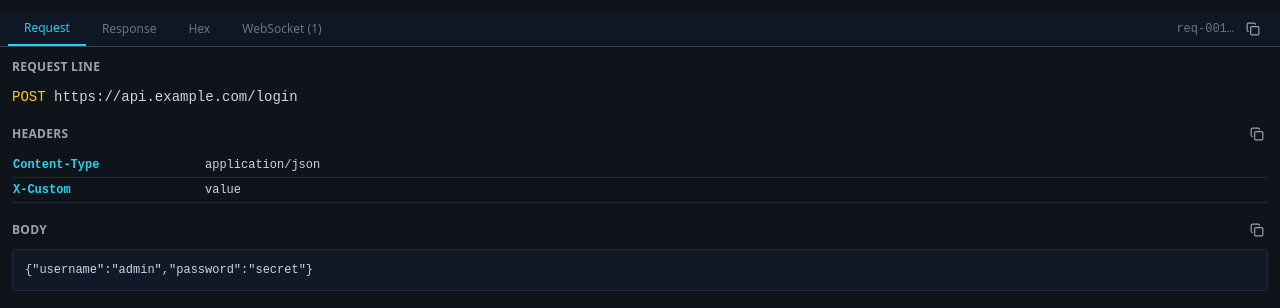
Test: RequestDetail › renders ws frames when provided
This screenshot has width=1280, height=308.
Click the button "WebSocket (1)" at (282, 29), box top-left (226, 13), bottom-right (338, 45)
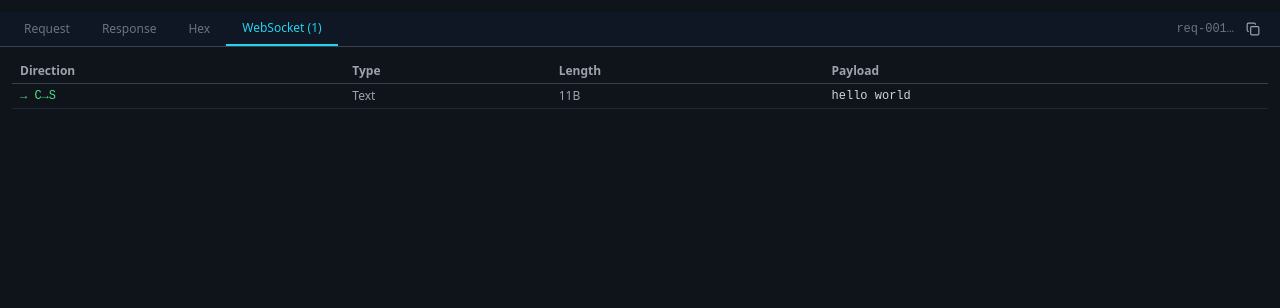
Check: the text "hello world" is shown, box top-left (824, 84), bottom-right (1268, 108)
